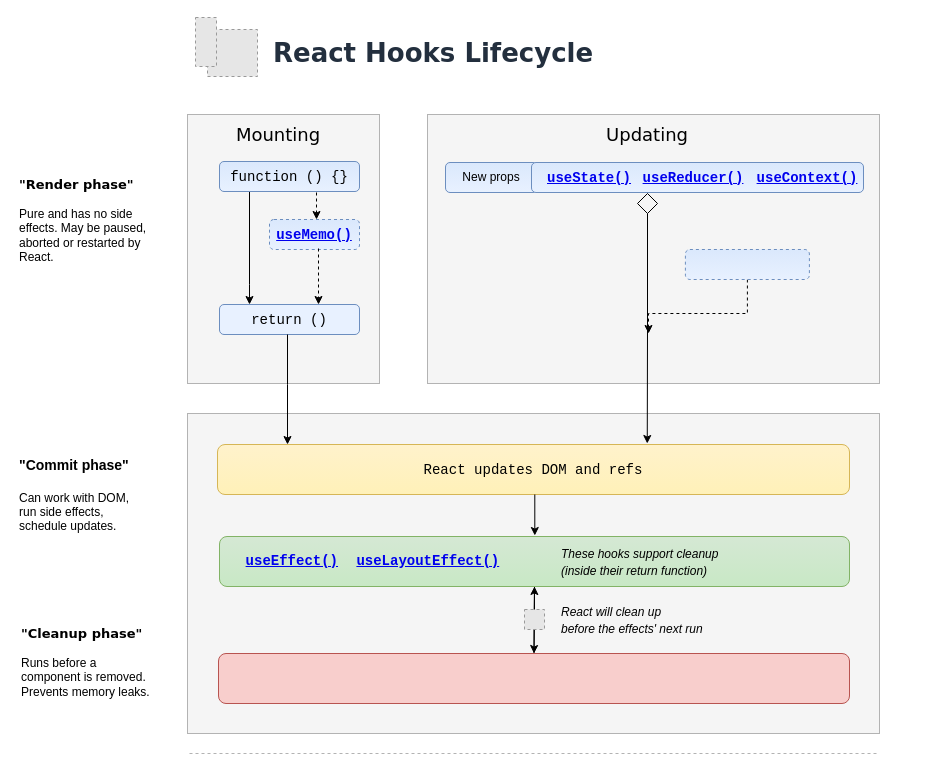
Image size: 932x772. Some labels were removed from this diagram. Grey dashed boxes stand in for pictures. Each missing label, with the box of its shape:
React cleans up effects: (218, 652, 850, 704)
useCallback(): (684, 248, 809, 280)
